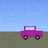vehicle: (21, 26, 43, 39)
